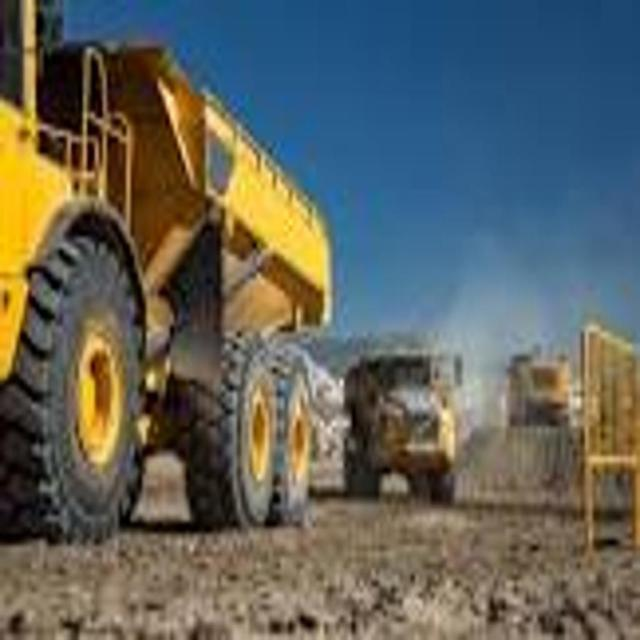dump_truck: (0, 0, 336, 556), (338, 336, 472, 512), (499, 334, 576, 440)
